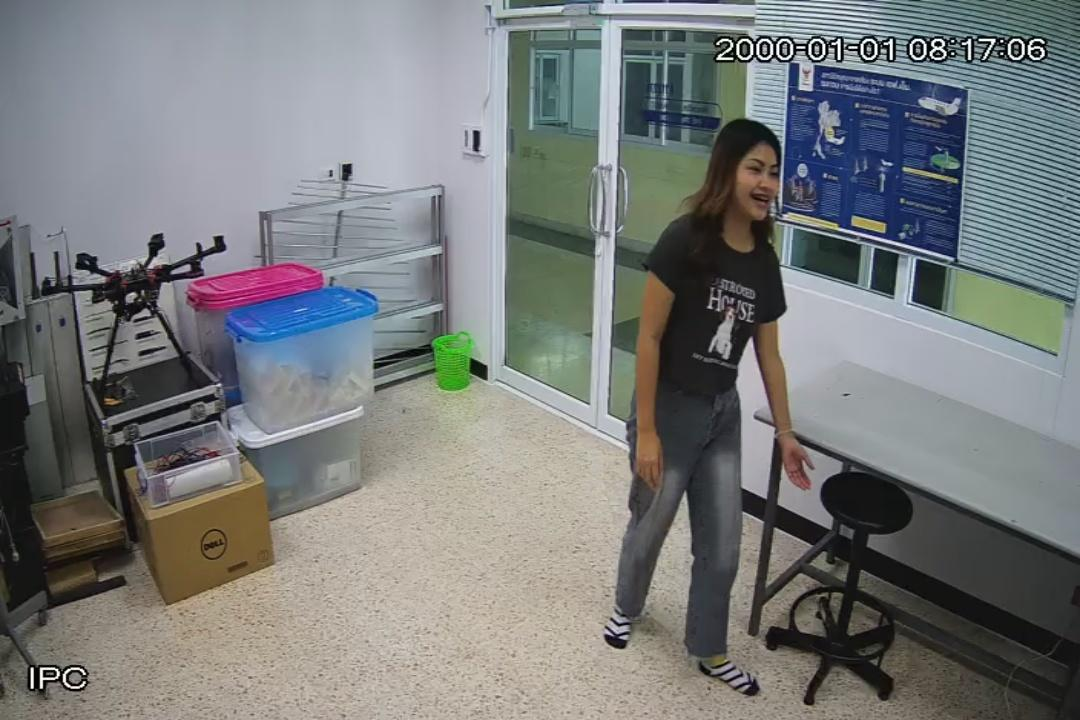normal: (598, 116, 812, 702)
